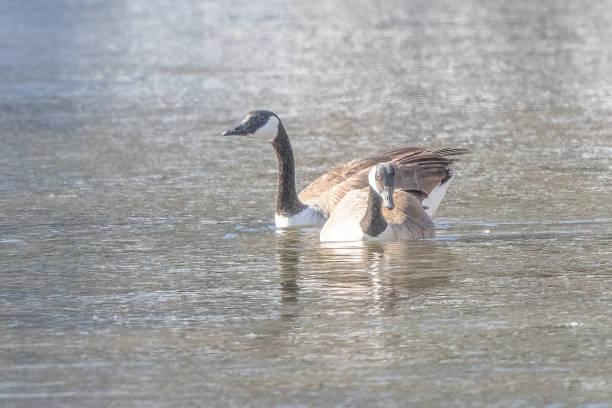Canadian-Goose: (224, 109, 454, 218), (315, 163, 438, 243)
